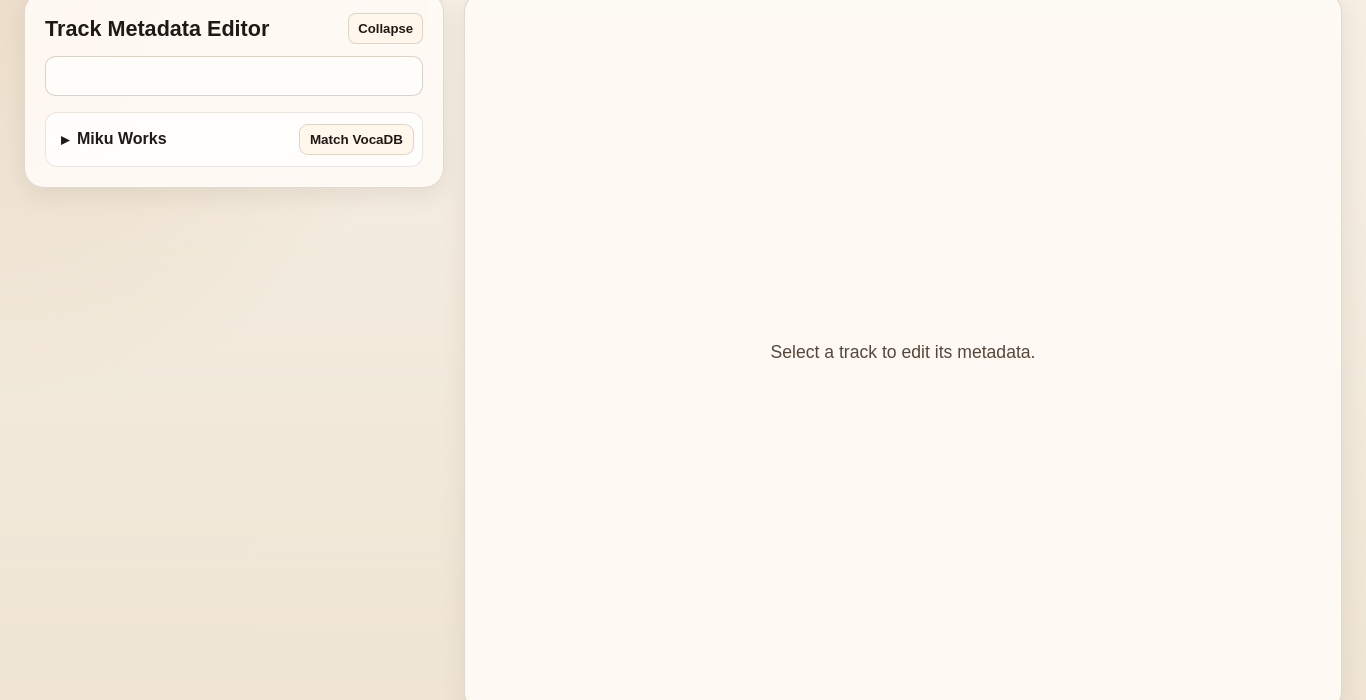
Test case: App › loads a track into the editor and saves changes
The width and height of the screenshot is (1366, 700).
Click the button "▸ Miku Works" at (172, 140), box x1=54 y1=121 x2=291 y2=158
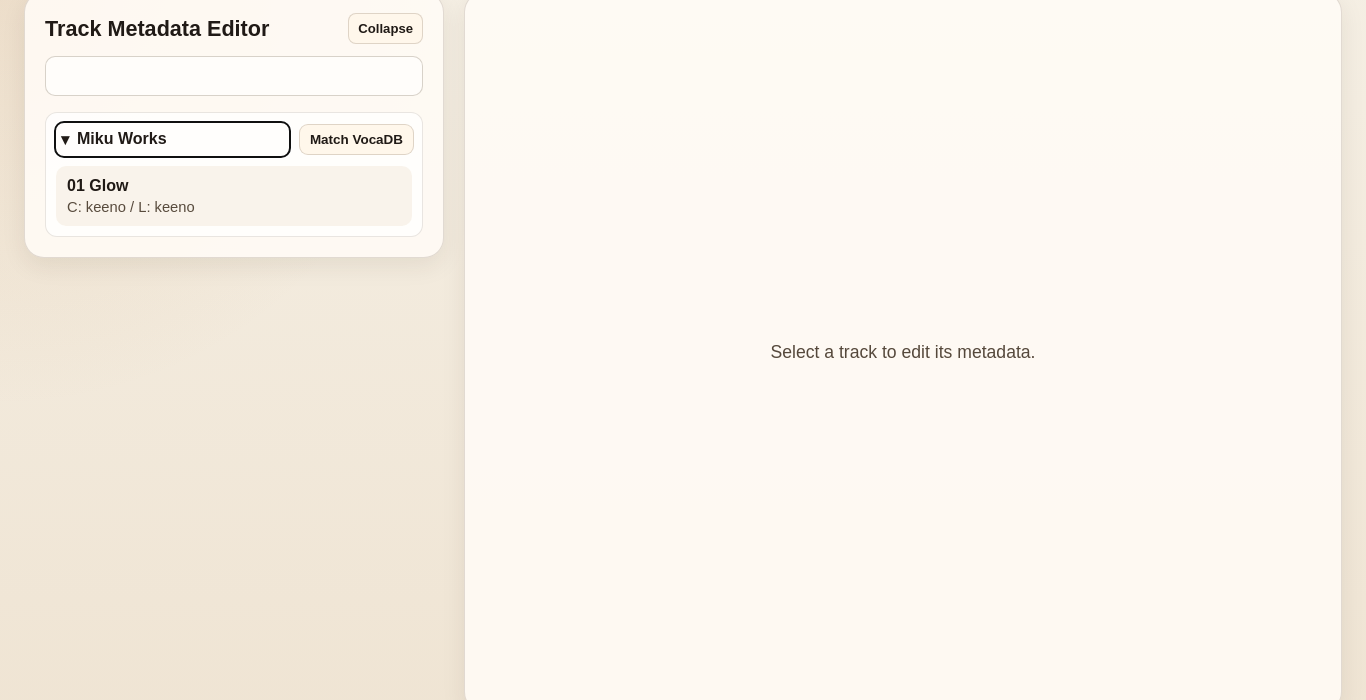
Click the button "01 Glow C: keeno / L: keeno" at (109, 186), box x1=56 y1=166 x2=412 y2=226
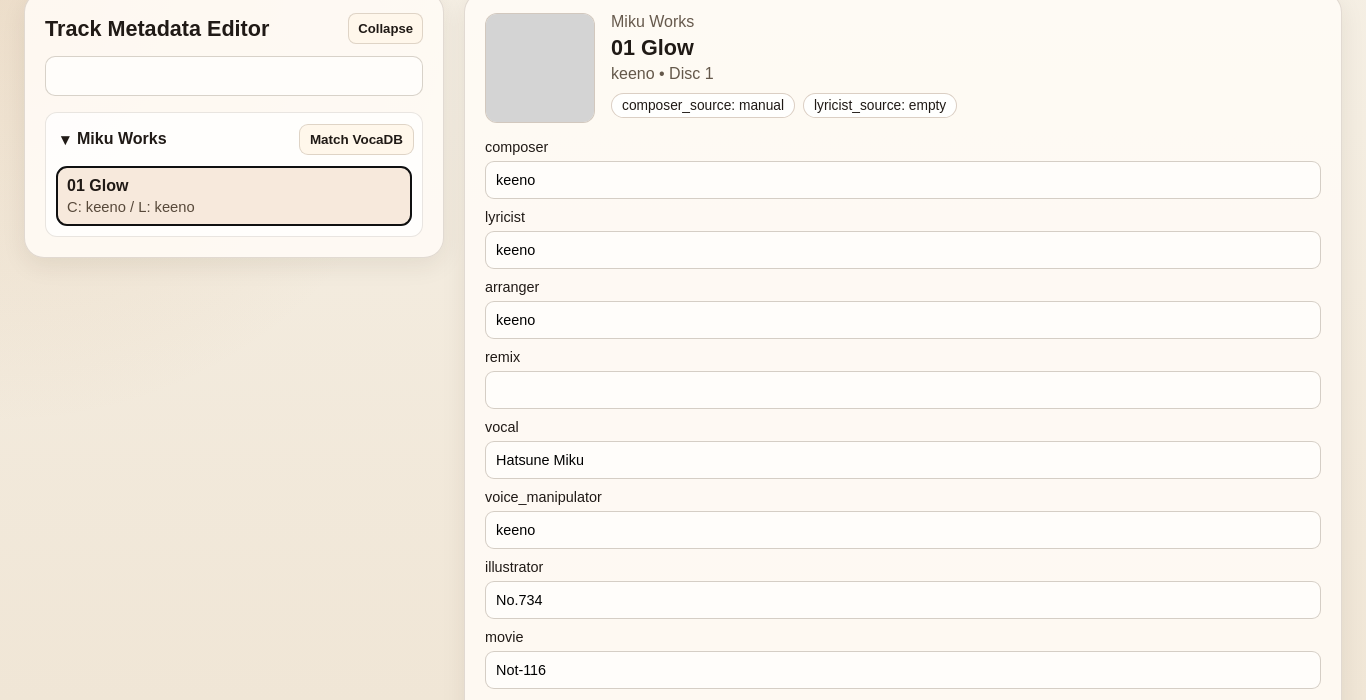
Replace the text in the field labelled "movie" with "Mah" at (903, 670), box x1=485 y1=651 x2=1321 y2=689
(page scrolled)
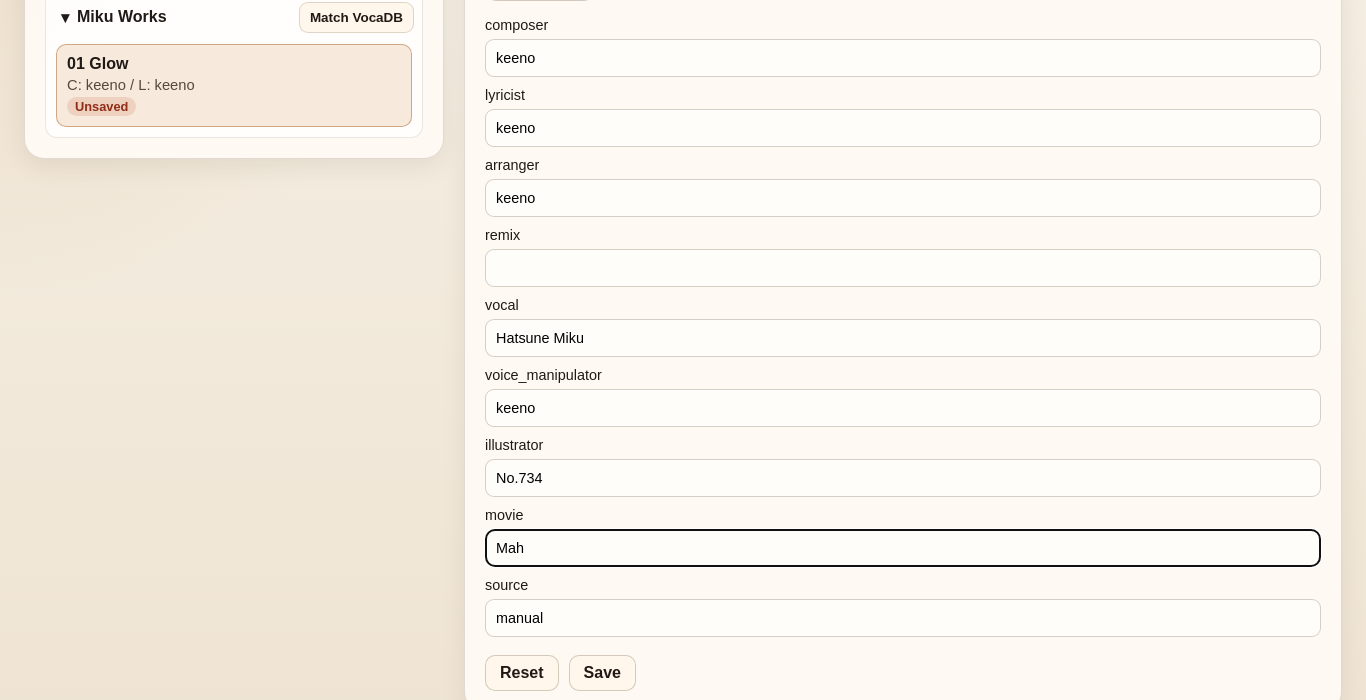
Click the button "Save" at (602, 673), box x1=569 y1=655 x2=636 y2=691
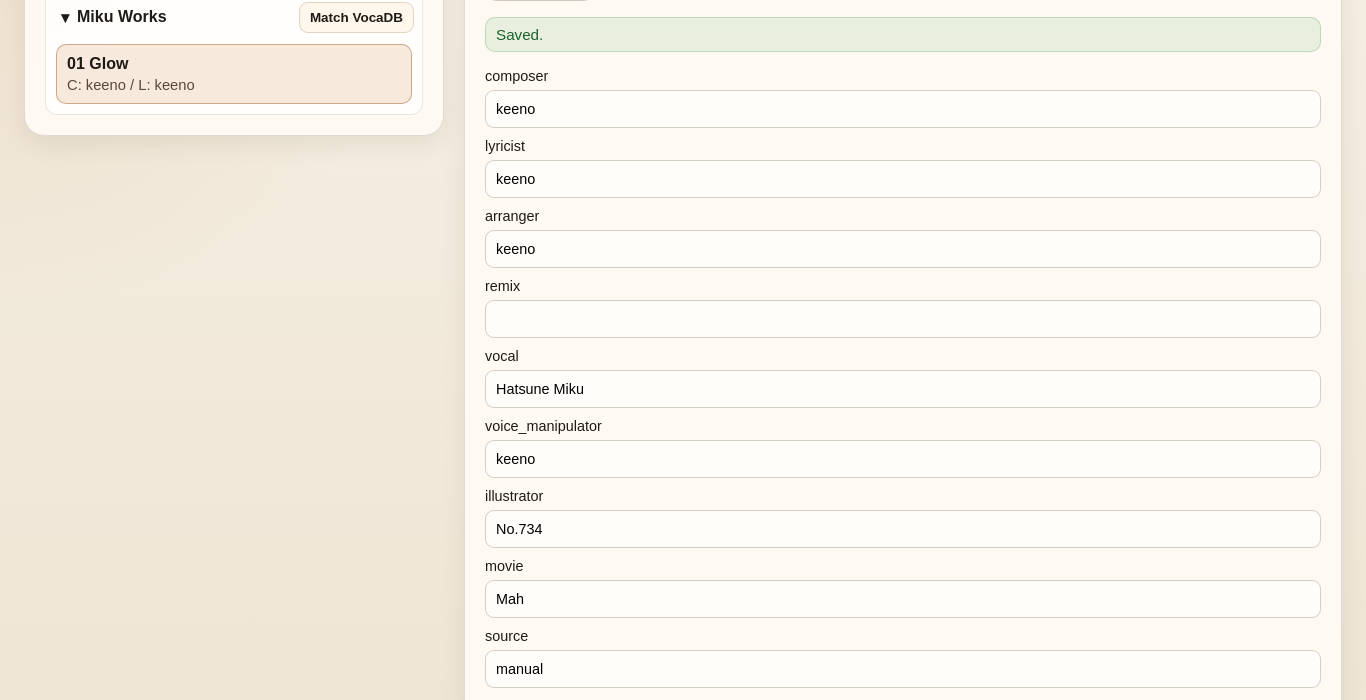
Expected: the text "Saved." is shown, x1=485 y1=17 x2=1321 y2=52
